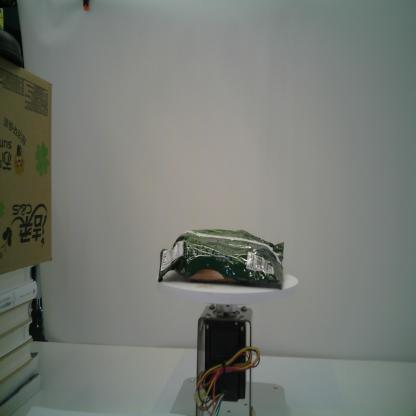Instant Noodles: (156, 225, 286, 292)
